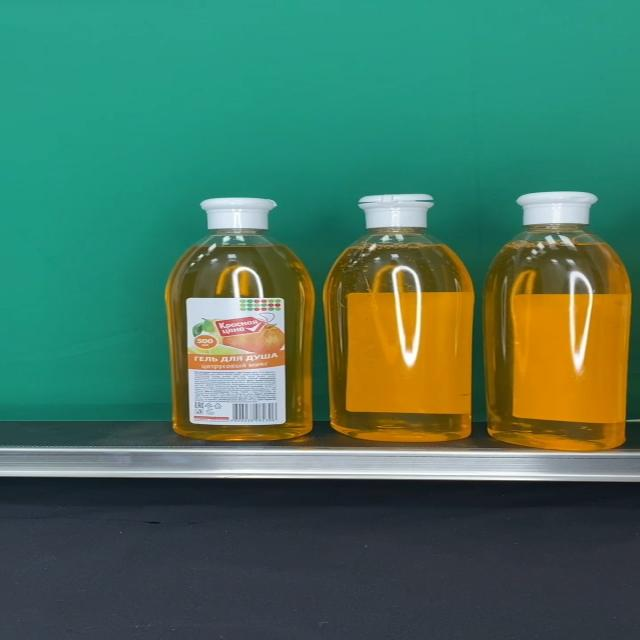Bottle: (484, 192, 632, 450), (324, 193, 474, 442), (164, 196, 316, 440)
Cap: (516, 191, 598, 226), (200, 197, 278, 231), (358, 193, 435, 227)
